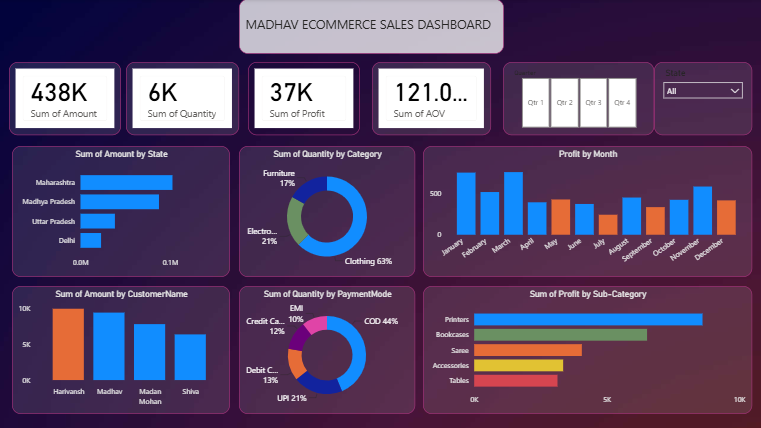

What the dashboard file says about the page in this screenshot:
{"tool":"powerbi","page":{"name":"Page 1","canvas":[1280,720],"ordinal":0},"visuals":[{"type":"textbox","box":[403.1,0,445.1,92.4],"z":0},{"type":"columnChart","title":"Profit by Month","fields":{"Y":["Sum(Details.Quantity)"],"Category":["Orders.Order Date.Variation.Date Hierarchy.Month"]},"box":[712.2,246.9,552.7,220.1],"z":1000},{"type":"barChart","fields":{"Category":["Details.Sub-Category"],"Y":["Sum(Details.Profit)"]},"box":[712.2,482.1,552.7,215],"z":2000},{"type":"donutChart","fields":{"Category":["Details.Category"],"Y":["Sum(Details.Quantity)"]},"box":[403.1,246.9,295.6,220.1],"z":3000},{"type":"donutChart","fields":{"Y":["Sum(Details.Quantity)"],"Category":["Details.PaymentMode"]},"box":[403.1,482.1,295.6,215],"z":4000},{"type":"cardVisual","fields":{"Data":["Sum(Details.Amount)"]},"box":[16.8,105.8,188.1,122.6],"z":5000},{"type":"cardVisual","fields":{"Data":["Sum(Details.Quantity)"]},"box":[213.3,105.8,189.8,122.6],"z":6000},{"type":"cardVisual","fields":{"Data":["Sum(Details.Profit)"]},"box":[418.3,105.8,188.1,122.6],"z":7000},{"type":"cardVisual","fields":{"Data":["Sum(Details.AOV)"]},"box":[626.6,105.8,199.9,122.6],"z":8000},{"type":"barChart","fields":{"Category":["Orders.State"],"Y":["Sum(Details.Amount)"]},"box":[21.8,246.9,366.2,220.1],"z":9000},{"type":"columnChart","fields":{"Category":["Orders.CustomerName"],"Y":["Sum(Details.Amount)"]},"box":[21.8,482.1,366.2,215],"z":10000},{"type":"slicer","fields":{"Values":["Orders.Order Date.Variation.Date Hierarchy.Quarter"]},"box":[846.6,105.8,253.6,122.6],"z":11000},{"type":"slicer","fields":{"Values":["Orders.State"]},"box":[1100.3,105.8,164.6,122.6],"z":12000}]}

Visuals, with their boxes in screenshot pixels (x1, y1, x2, y2), scaled from the page's 1280x720 canvas onto the 761x428 screenshot:
textbox: {"left": 240, "top": 0, "right": 504, "bottom": 55}
"Profit by Month" columnChart: {"left": 423, "top": 147, "right": 752, "bottom": 278}
barChart - Details.Sub-Category x Sum(Details.Profit): {"left": 423, "top": 287, "right": 752, "bottom": 414}
donutChart - Details.Category x Sum(Details.Quantity): {"left": 240, "top": 147, "right": 415, "bottom": 278}
donutChart - Sum(Details.Quantity) x Details.PaymentMode: {"left": 240, "top": 287, "right": 415, "bottom": 414}
cardVisual - Sum(Details.Amount): {"left": 10, "top": 63, "right": 122, "bottom": 136}
cardVisual - Sum(Details.Quantity): {"left": 127, "top": 63, "right": 240, "bottom": 136}
cardVisual - Sum(Details.Profit): {"left": 249, "top": 63, "right": 361, "bottom": 136}
cardVisual - Sum(Details.AOV): {"left": 373, "top": 63, "right": 491, "bottom": 136}
barChart - Orders.State x Sum(Details.Amount): {"left": 13, "top": 147, "right": 231, "bottom": 278}
columnChart - Orders.CustomerName x Sum(Details.Amount): {"left": 13, "top": 287, "right": 231, "bottom": 414}
slicer - Orders.Order Date.Variation.Date Hierarchy.Quarter: {"left": 503, "top": 63, "right": 654, "bottom": 136}
slicer - Orders.State: {"left": 654, "top": 63, "right": 752, "bottom": 136}
